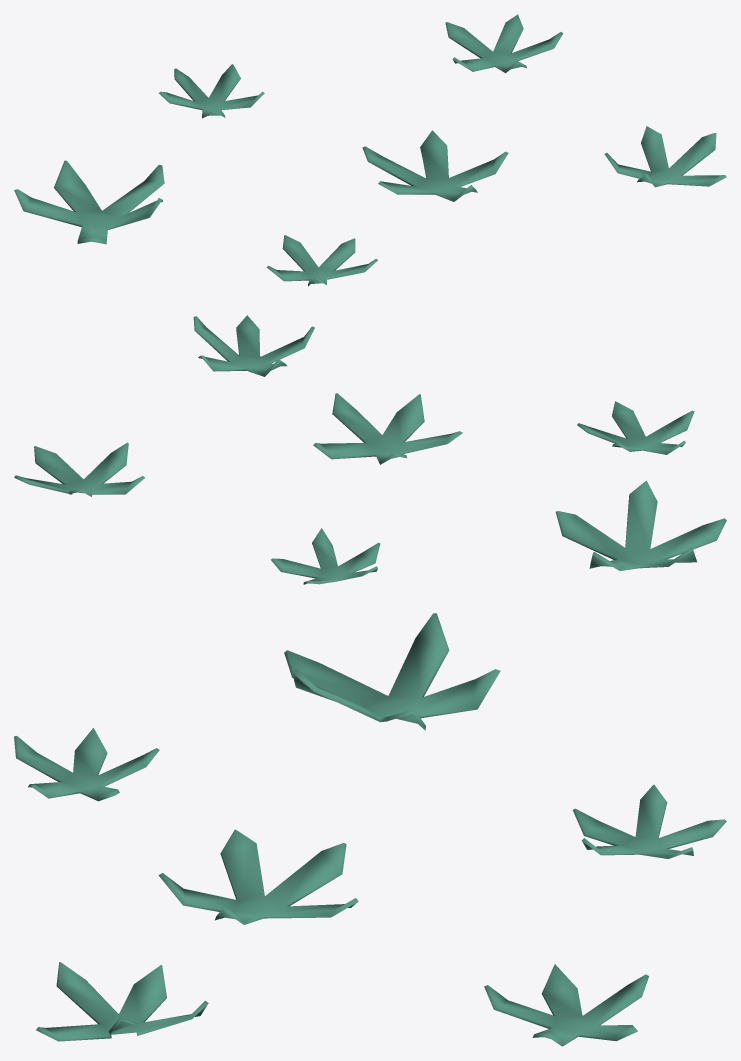
The model's file is rpgpp_ag_flowers_ground_02a 1.fbx.
The picture shows the model from 3 angles, top to bottom: view 1: azimuth 30°, elevation 25°; view 2: azimuth 150°, elevation 25°; view 3: azimuth 270°, elevation 25°; orthographic projection. The views are drawn at different scales.
Parts seen in each view (by area): view 1: rpgpp_ag_flowers_ground_02a; view 2: rpgpp_ag_flowers_ground_02a; view 3: rpgpp_ag_flowers_ground_02a.
Boxes of the visible parts, <box> form: rpgpp_ag_flowers_ground_02a: <box>14,14,726,286</box>; rpgpp_ag_flowers_ground_02a: <box>14,315,726,584</box>; rpgpp_ag_flowers_ground_02a: <box>14,613,726,1046</box>.
Size of the model in its own units: 1.91 by 0.1376 by 1.43.
